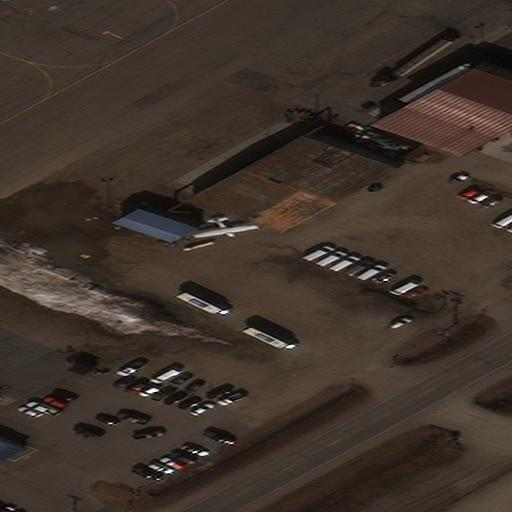Small Civil Transport: (193, 216, 260, 238)
